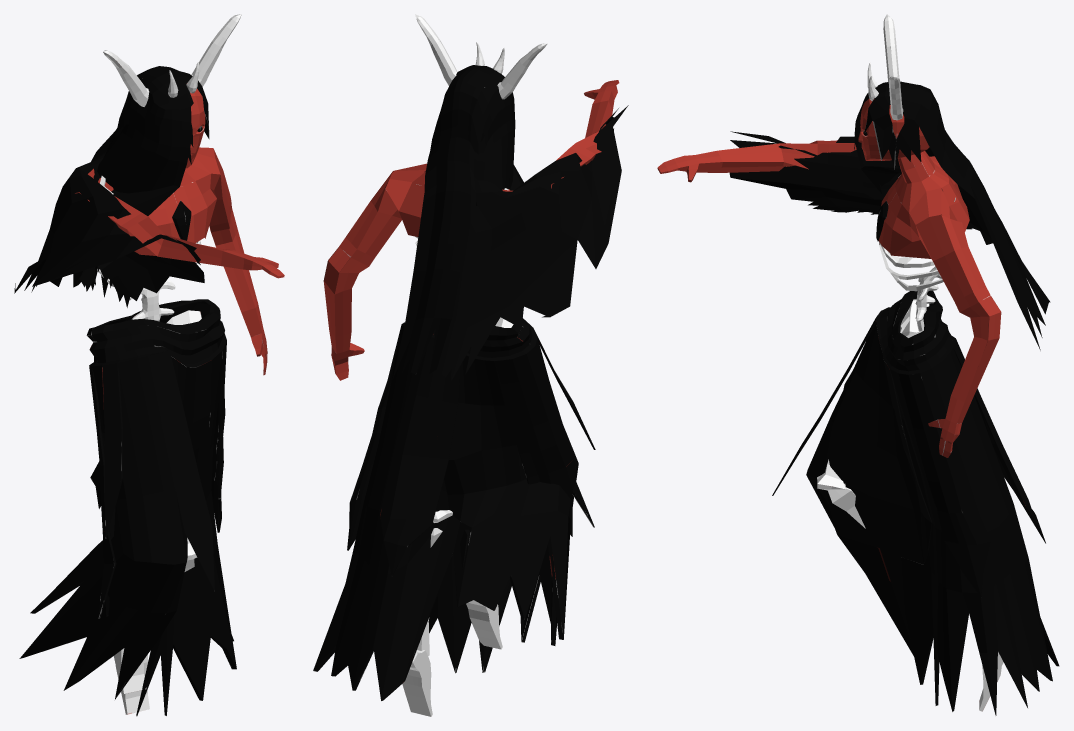
File: cursedqueenattack_18.fbx
The picture shows the model from 3 angles, left to right: view 1: azimuth 30°, elevation 25°; view 2: azimuth 150°, elevation 25°; view 3: azimuth 270°, elevation 25°; orthographic projection. The views are drawn at different scales.
Visible parts, largest first — view 1: cursed_queen; view 2: cursed_queen; view 3: cursed_queen.
Boxes of the visible parts, box(x1,y1,x2,y2) form: cursed_queen: box(14, 14, 284, 716); cursed_queen: box(313, 14, 628, 716); cursed_queen: box(657, 14, 1059, 715).
Bounding box in the file's own units: 106 × 277 × 154.
